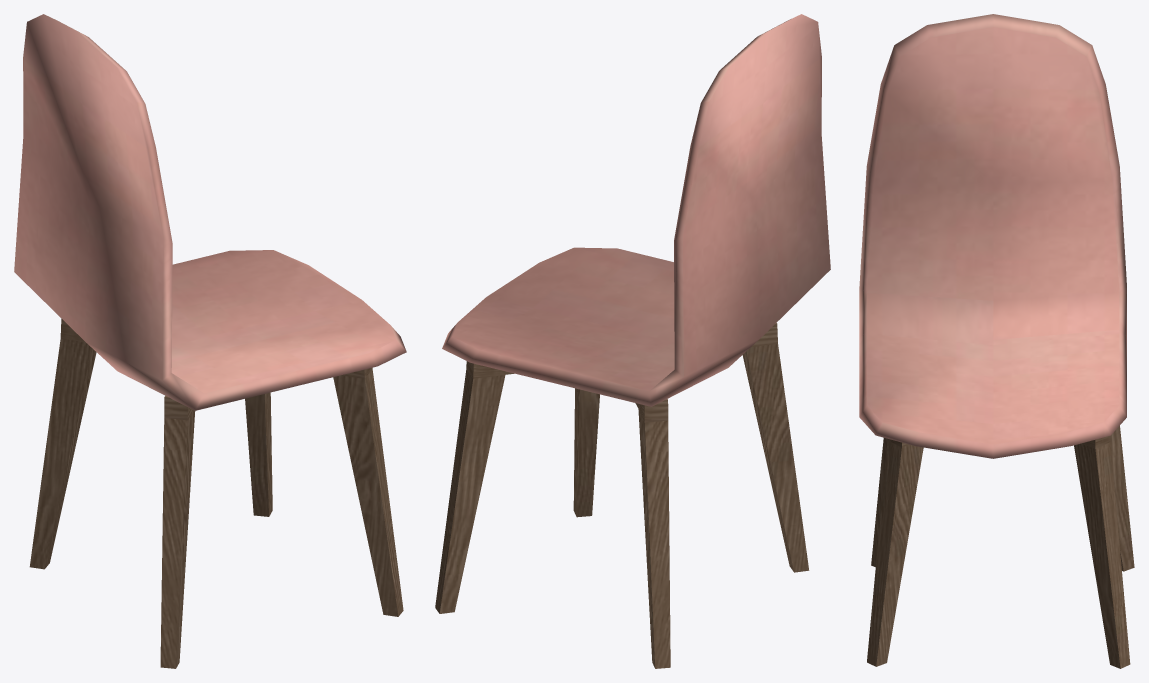
Rendered from Chair_02-col.glb.
3 renders of one model, left to right at view 1: azimuth 30°, elevation 25°; view 2: azimuth 150°, elevation 25°; view 3: azimuth 270°, elevation 25°, orthographic. The views are drawn at different scales.
Visible parts, largest first — view 1: Chair_02-col; view 2: Chair_02-col; view 3: Chair_02-col.
Boxes of the visible parts, x1,y1,x2,y2 form: Chair_02-col: [14, 14, 406, 668]; Chair_02-col: [435, 14, 830, 668]; Chair_02-col: [859, 14, 1134, 668].
Size of the model in its own units: 0.6247 by 1.21 by 0.5632.
2 materials, 2 textured.
